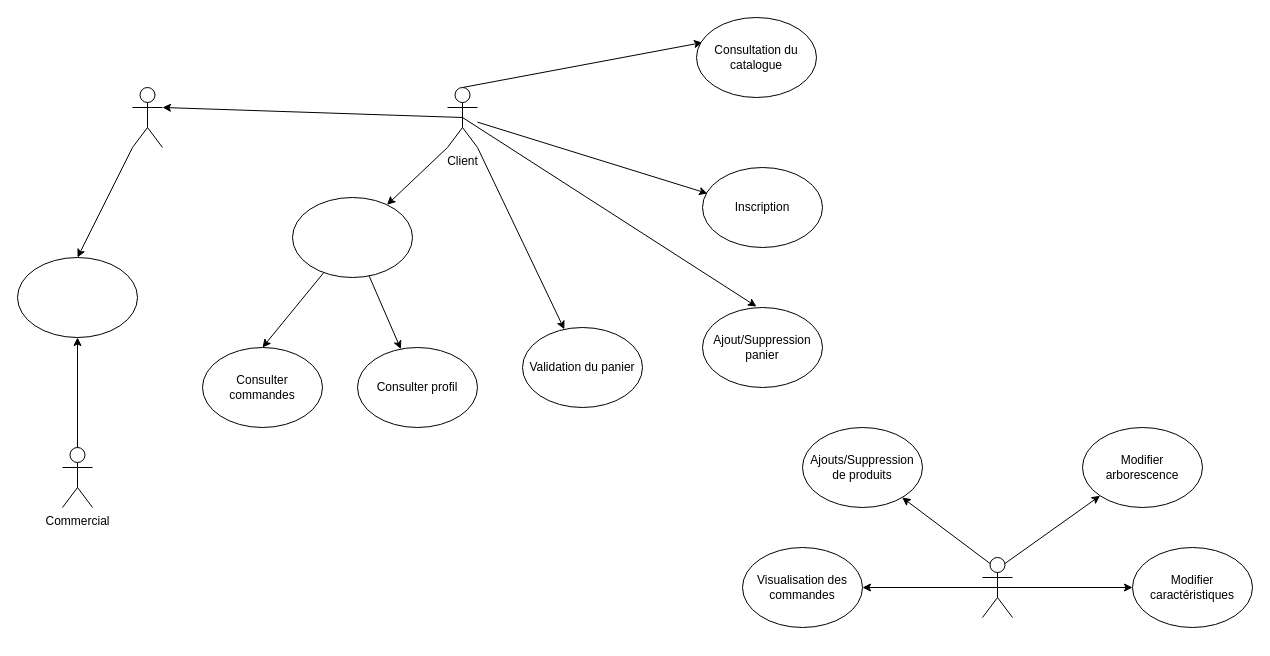
Image size: 1270x656. Some labels were removed from this diagram. Here are the shapes that lost their labels. From the top down, the box of each, then its label:
(132, 86, 162, 148): Client Pro
(292, 196, 412, 278): Connexion Déconnexion
(16, 256, 138, 338): Validation du panier avec réduction
(982, 556, 1012, 618): Equipe relation/fournisseur
